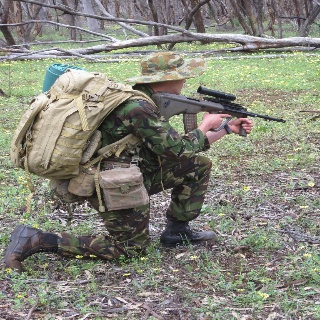rifle: (148, 84, 286, 141)
